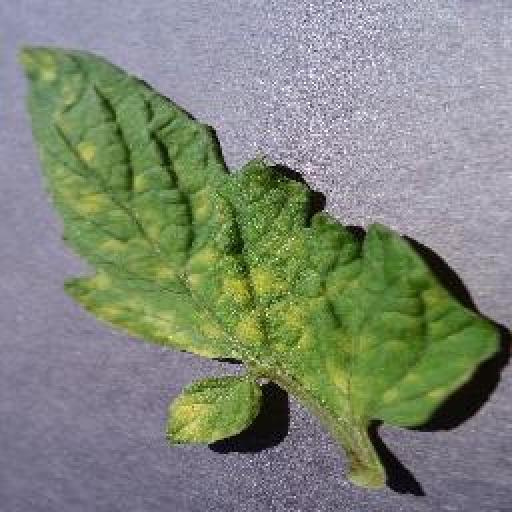Leaf Mold: (17, 40, 500, 451)
